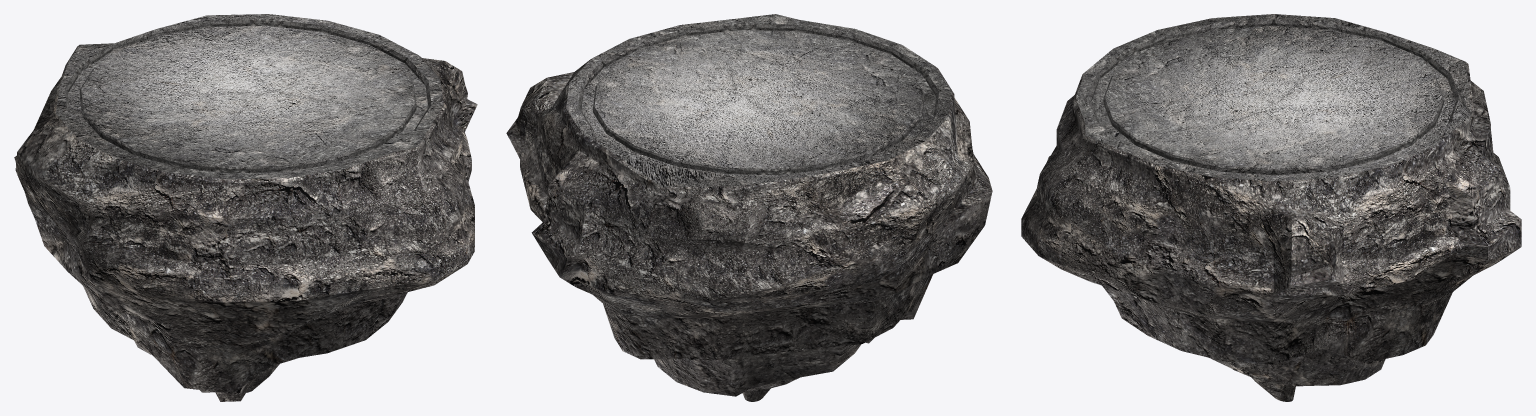
The model's file is FloatingRock_002.fbx.
3 views of the same model, side by side, from view 1: azimuth 30°, elevation 25°; view 2: azimuth 150°, elevation 25°; view 3: azimuth 270°, elevation 25° (orthographic). The views are drawn at different scales.
Parts seen in each view (by area): view 1: FloatingRock_002; view 2: FloatingRock_002; view 3: FloatingRock_002.
Boxes of the visible parts, bbox=[...] form: FloatingRock_002: bbox=[14, 14, 477, 401]; FloatingRock_002: bbox=[506, 14, 992, 401]; FloatingRock_002: bbox=[1021, 14, 1521, 401].
Size of the model in its own units: 82.45 by 53.1 by 79.79.
